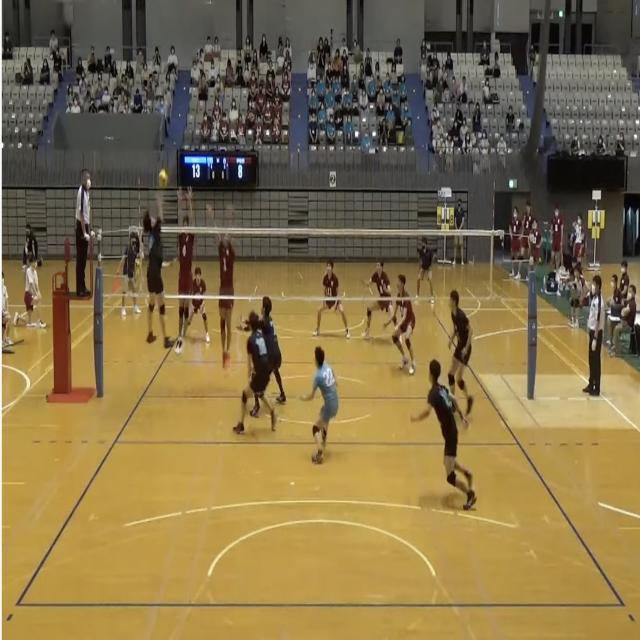spike: (138, 166, 180, 352)
